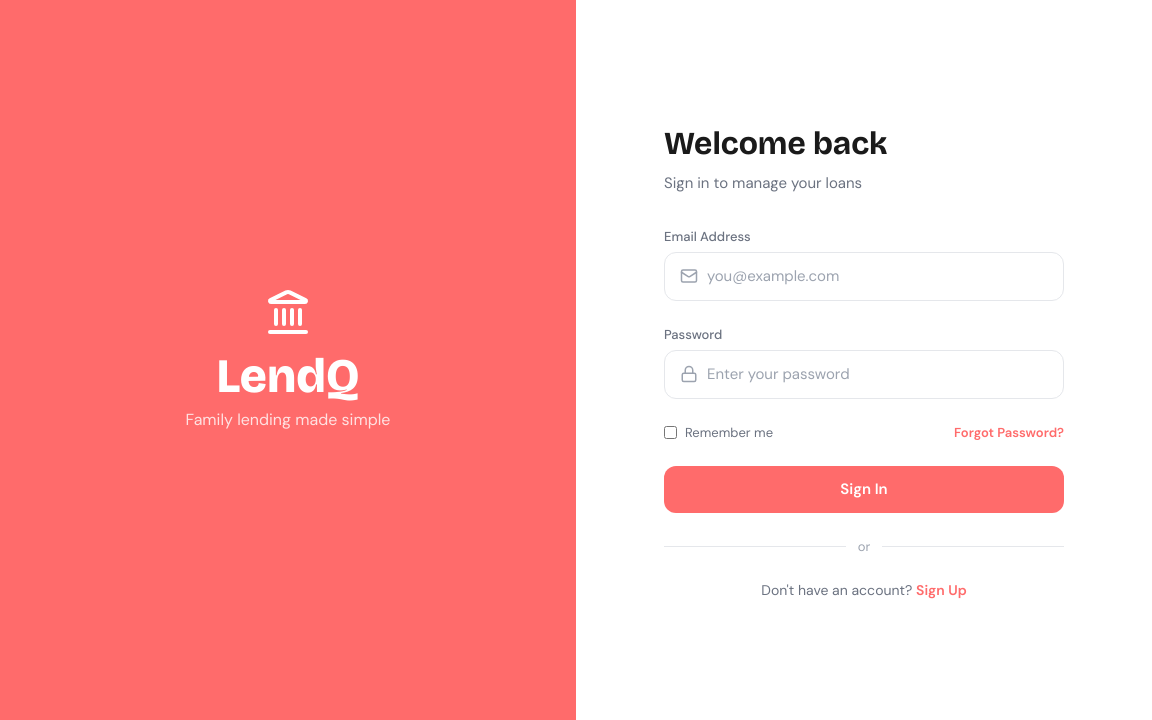
Scenario: LoginPage › disables inputs and submit while login is pending
Type "creditor@family.com" into the field labelled "Email Address".
click(864, 276); type("creditor@family.com")  # box [664,252,1064,300]
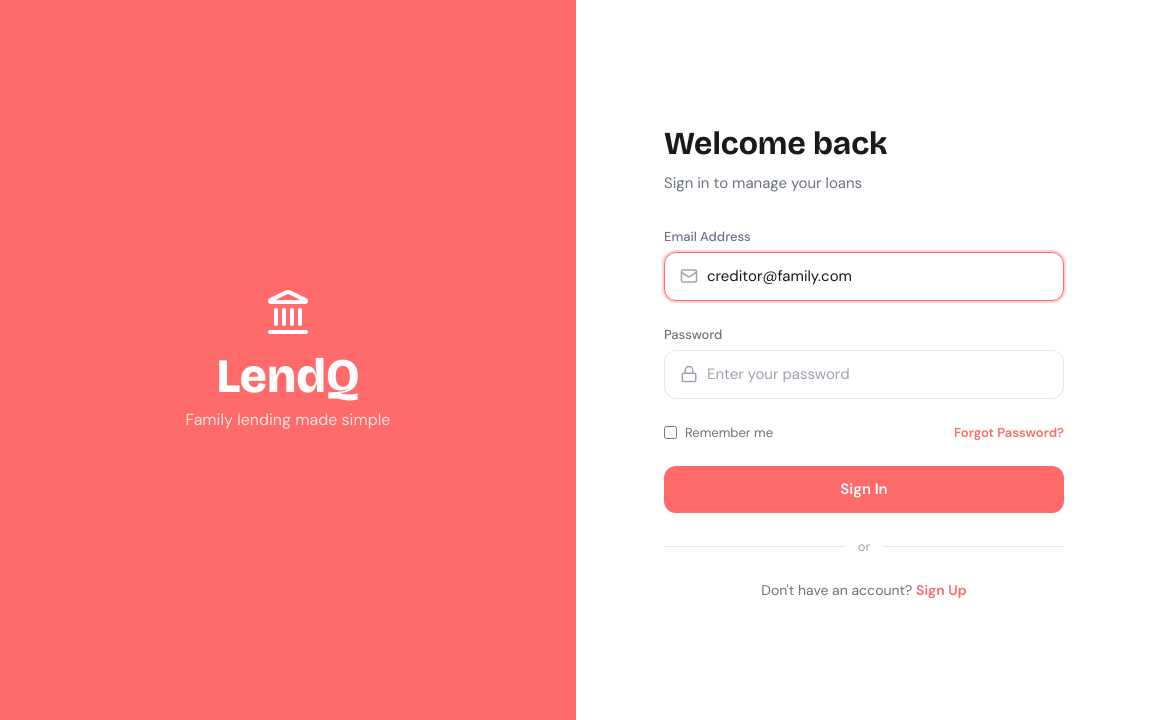
Type "password123" into the password field labelled "Password".
click(864, 374); type("password123")  # box [664,350,1064,398]
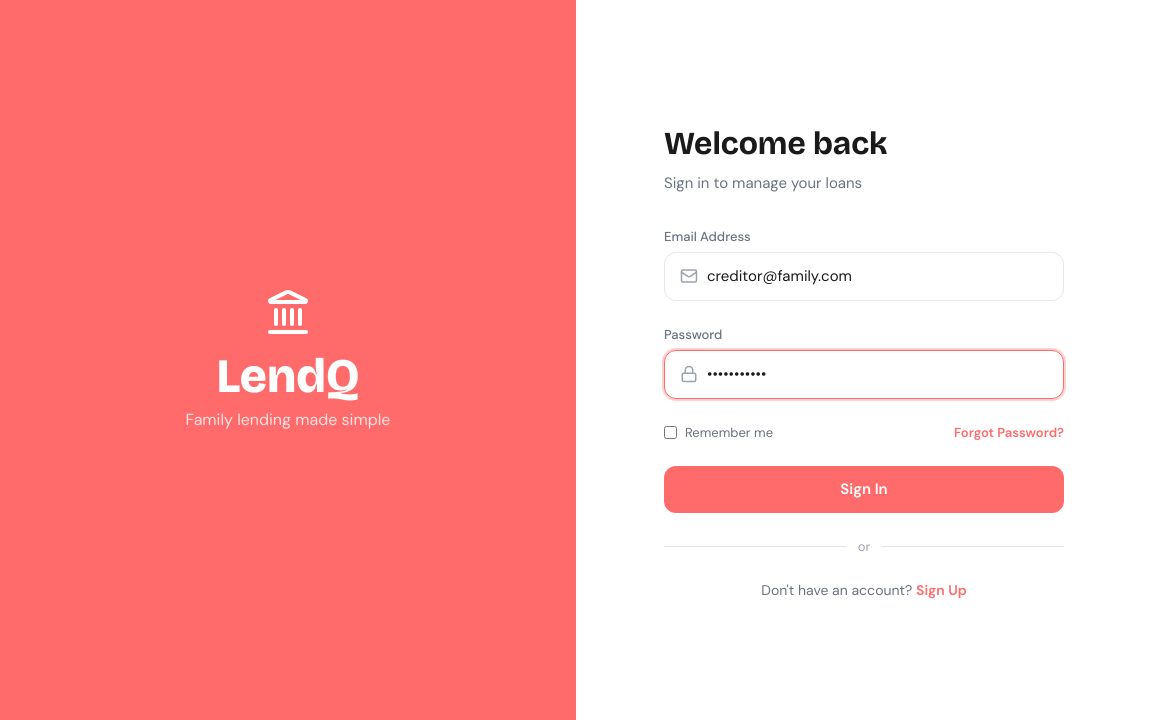
Click the button "Sign In".
click(864, 489)  # box [664,466,1064,512]
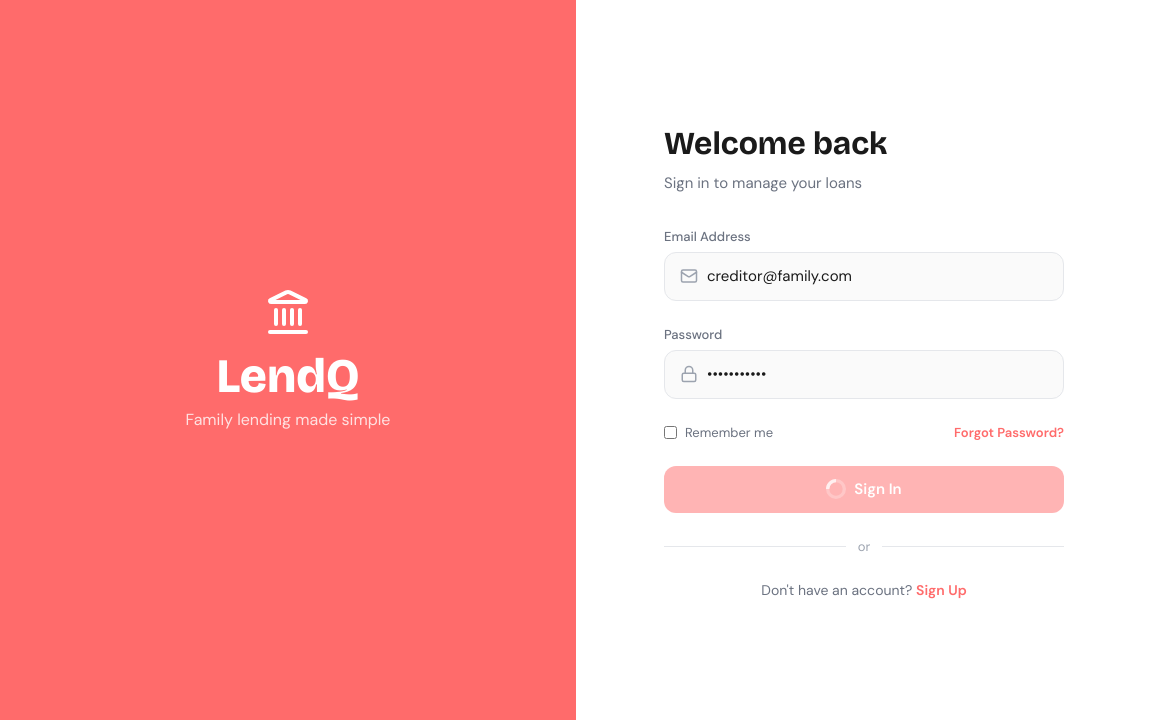
Expected: the field labelled "Email Address" is disabled, [664,252,1064,300]
Expected: the button "Sign In" is disabled, [664,466,1064,512]
